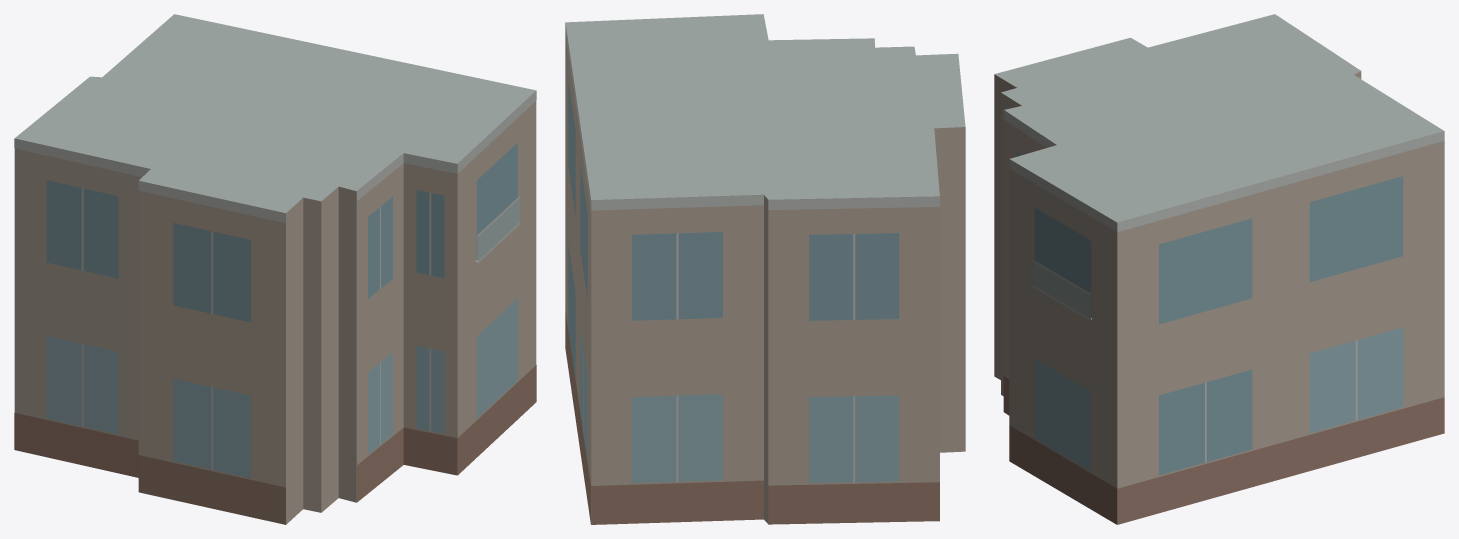
The model's file is survey-upis-32918282.glb.
The picture shows the model from 3 angles, left to right: view 1: azimuth 30°, elevation 25°; view 2: azimuth 150°, elevation 25°; view 3: azimuth 270°, elevation 25°; orthographic projection. The views are drawn at different scales.
Parts seen in each view (by area): view 1: survey-upis-32918282.tmp; view 2: survey-upis-32918282.tmp; view 3: survey-upis-32918282.tmp.
Part boxes in pixels (box(x1,y1,x2,y2)): survey-upis-32918282.tmp: box(14, 14, 536, 524); survey-upis-32918282.tmp: box(565, 14, 965, 524); survey-upis-32918282.tmp: box(994, 14, 1444, 524).
Size of the model in its own units: 11.26 by 7.6 by 10.27.
